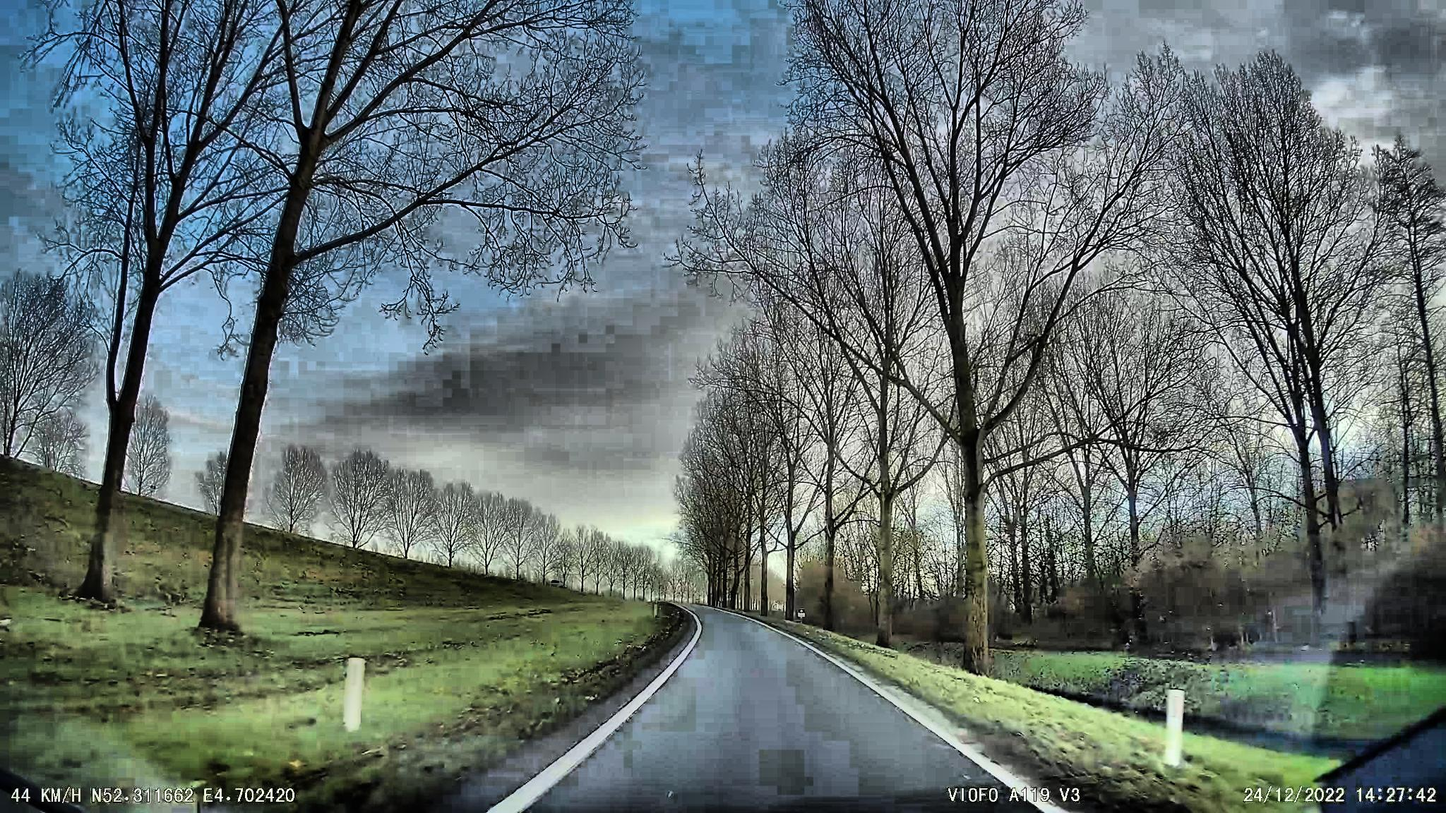Roads: (411, 610, 1112, 813)
